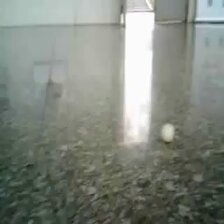w: (160, 122, 177, 144)
